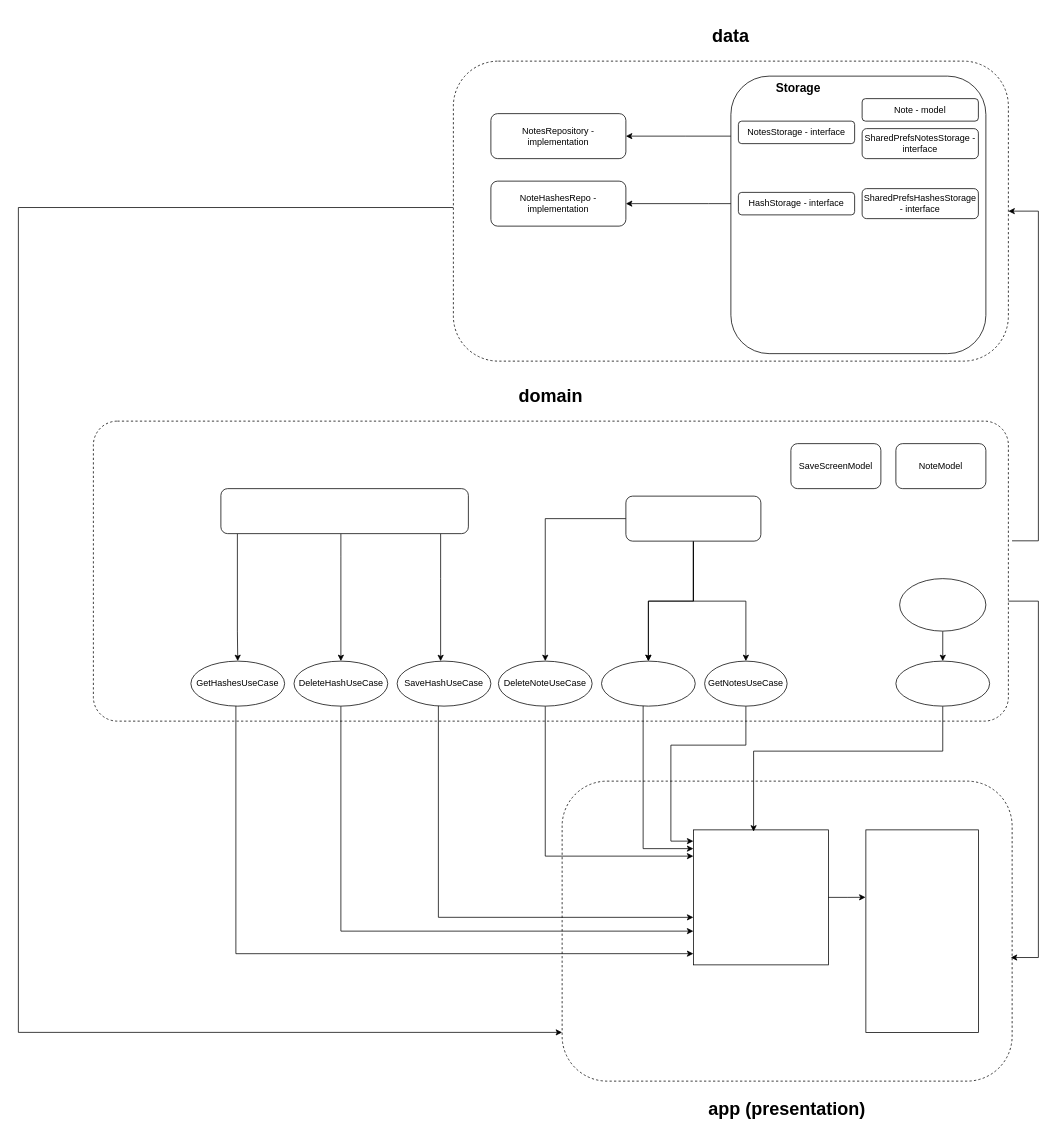
Some shapes in this 1058 by 1145 pixel diagram are drawn without their labels. The shapes that lost their labels are listed below. From the top down, each one's centre as x and y in pixels, then its label:
(x=344, y=511): NoteHashesRepo - interface
(x=693, y=518): NotesRepository - interface
(x=942, y=604): CreateImage
(x=648, y=683): SaveNoteUseCase
(x=942, y=683): SaveImageUseCase
(x=760, y=897): View Model
(x=921, y=930): Activity
